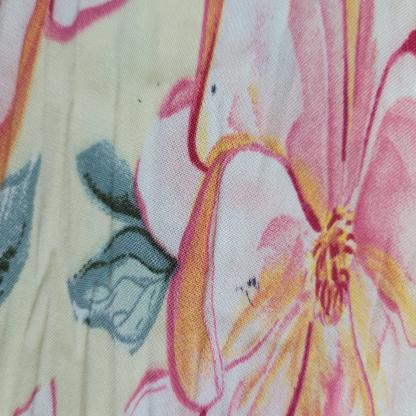spot: (232, 264, 266, 315), (129, 93, 152, 122), (207, 70, 221, 104)
